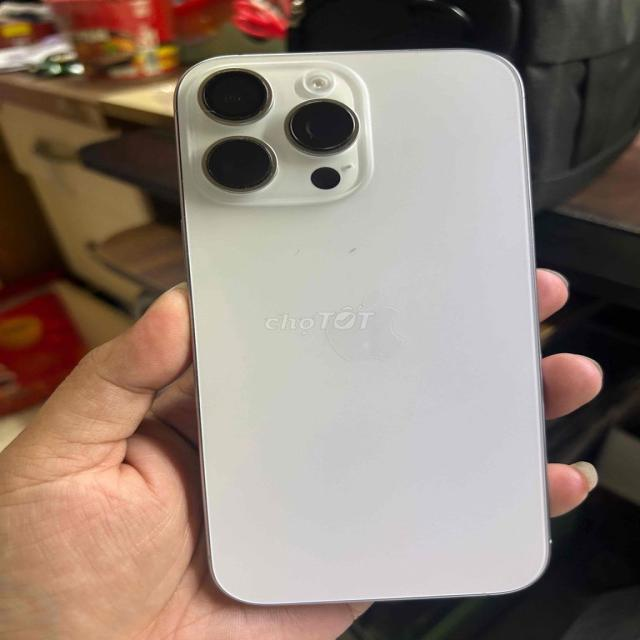gen_16: (175, 49, 549, 605)
